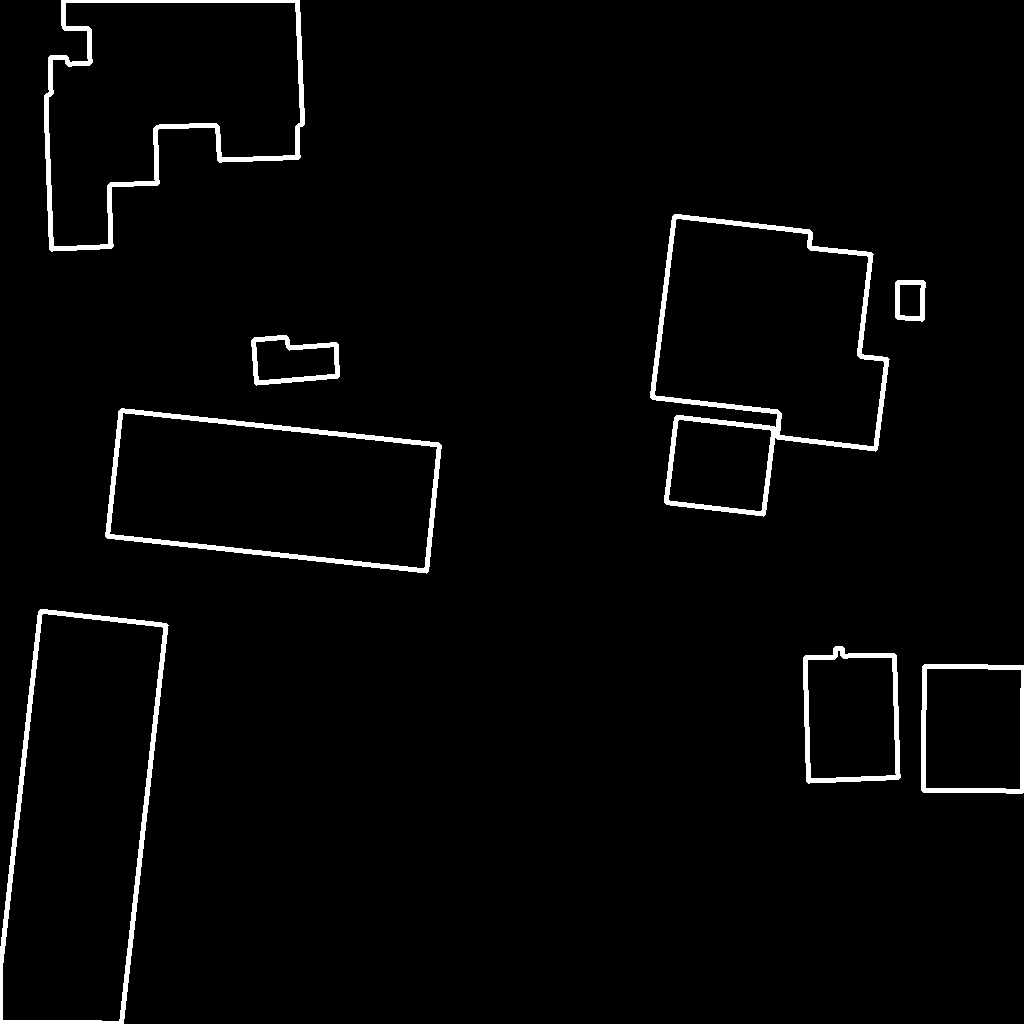building: (0, 611, 167, 1024), (46, 0, 303, 250), (652, 216, 888, 450), (107, 410, 441, 572), (923, 666, 1024, 792), (805, 648, 899, 782), (666, 417, 775, 515), (253, 337, 339, 384), (897, 282, 924, 320)
